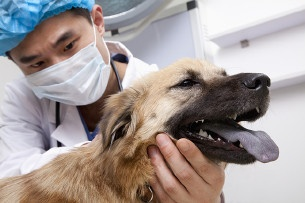Mask: (19, 28, 100, 109)
